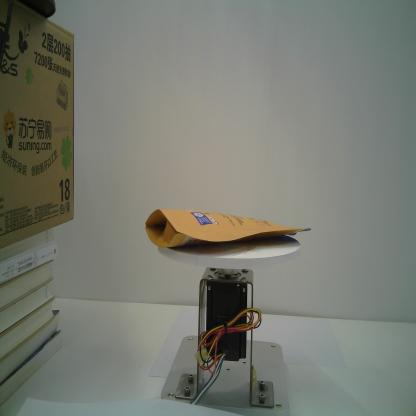Dried Fruit: (145, 208, 313, 248)
